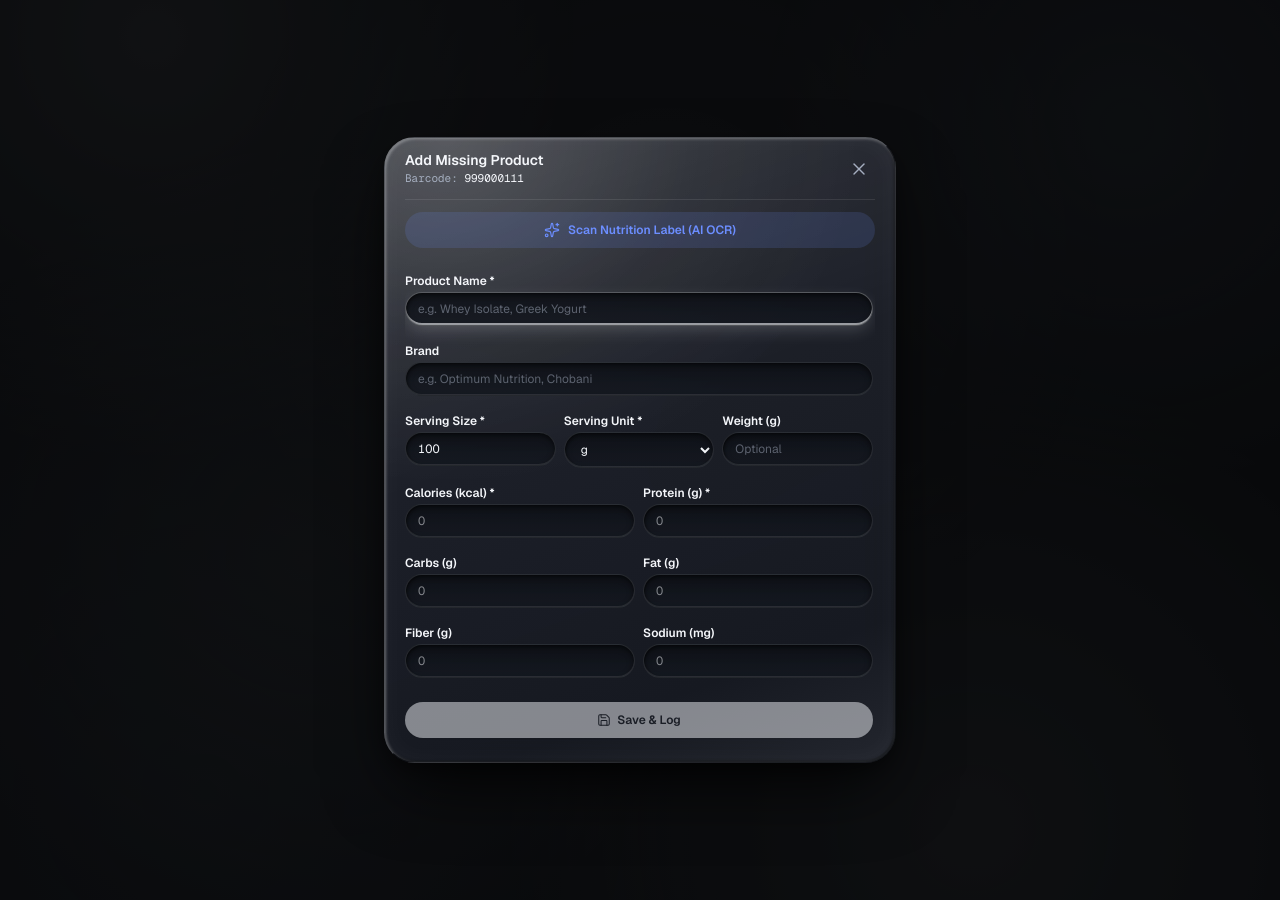
Task 8: Barcode Scanner & Missing-Barcode Creator › AddBarcodeProductModal › rejects negative or non-positive serving size and prevents saving
In the field labelled "Product Name *": (639, 309) 405,292 -> 873,326, type "Bad Size Food"
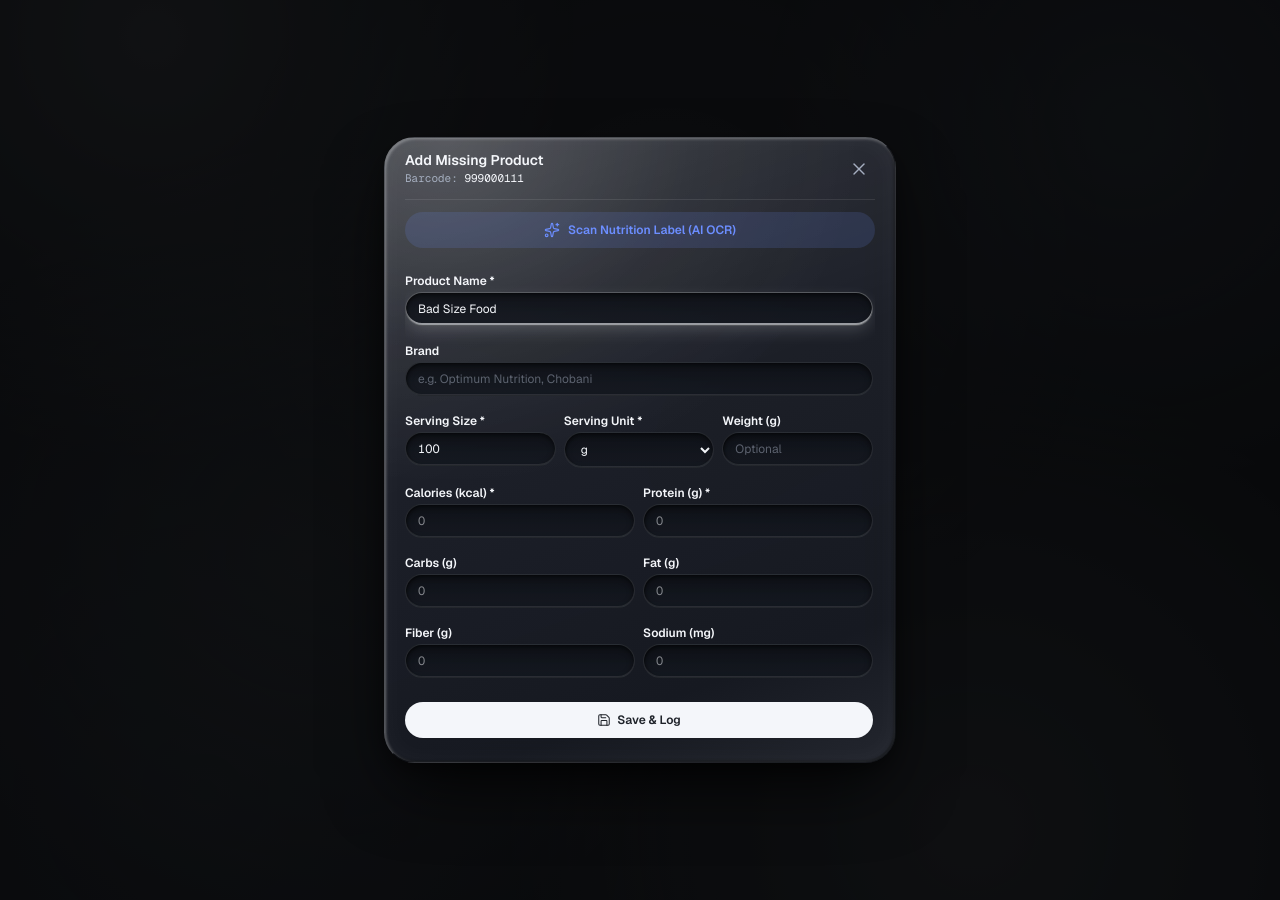
Replace the text in the number field labelled "Serving Size *" with "-10": (480, 449) 405,432 -> 556,466
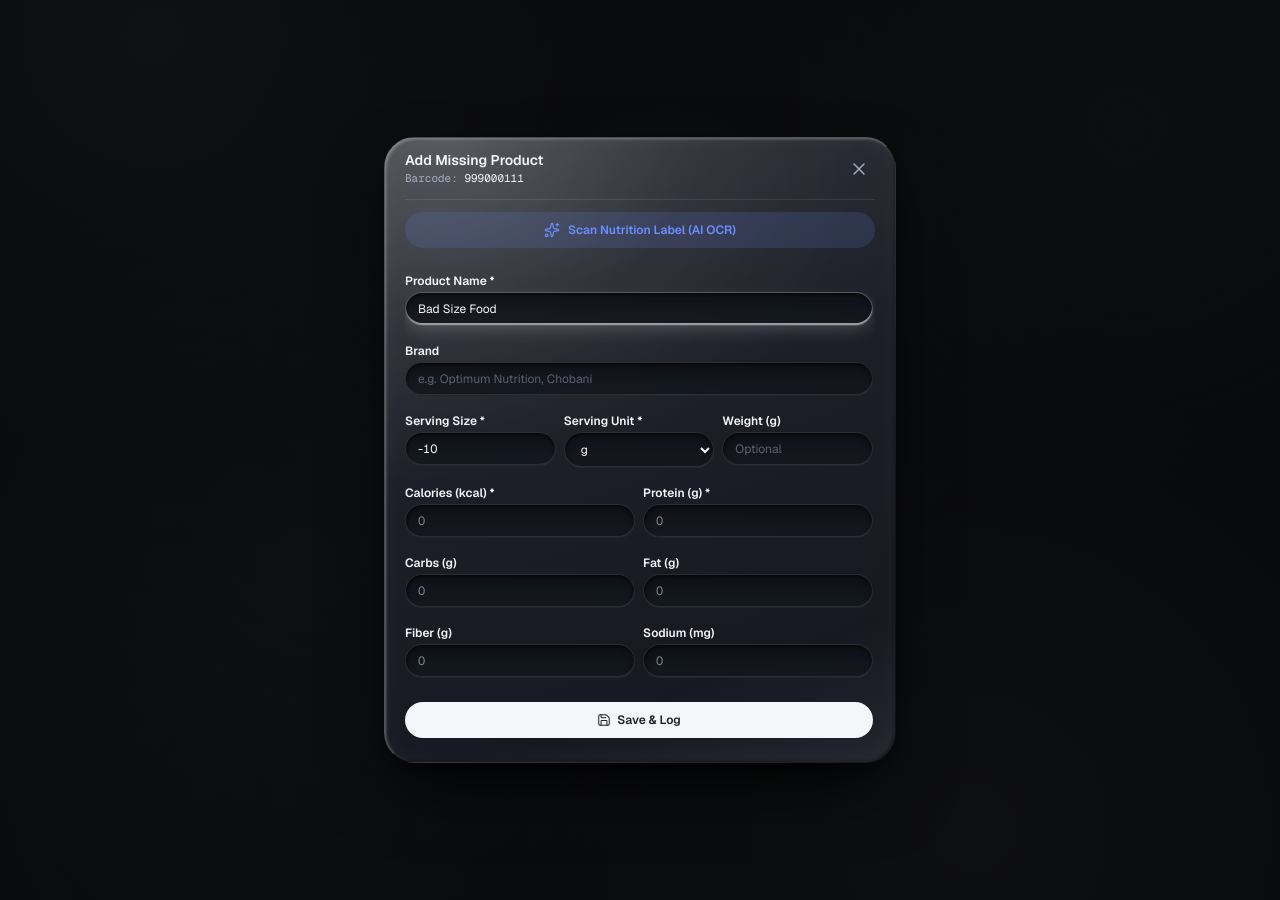
In the number field labelled "Calories (kcal) *": (520, 521) 405,504 -> 635,538, type "100"
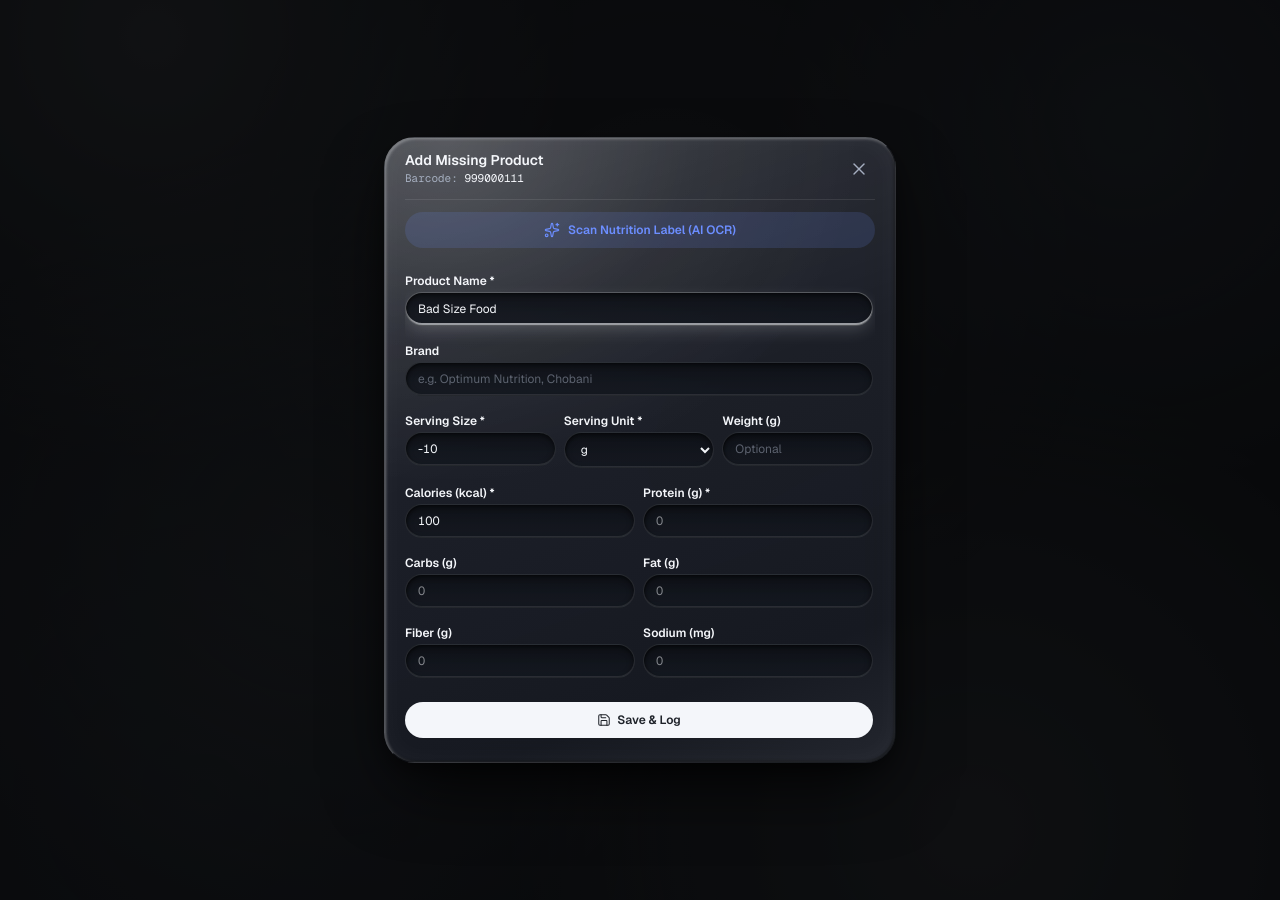
Click the button "Save & Log": (639, 720) 405,702 -> 873,738
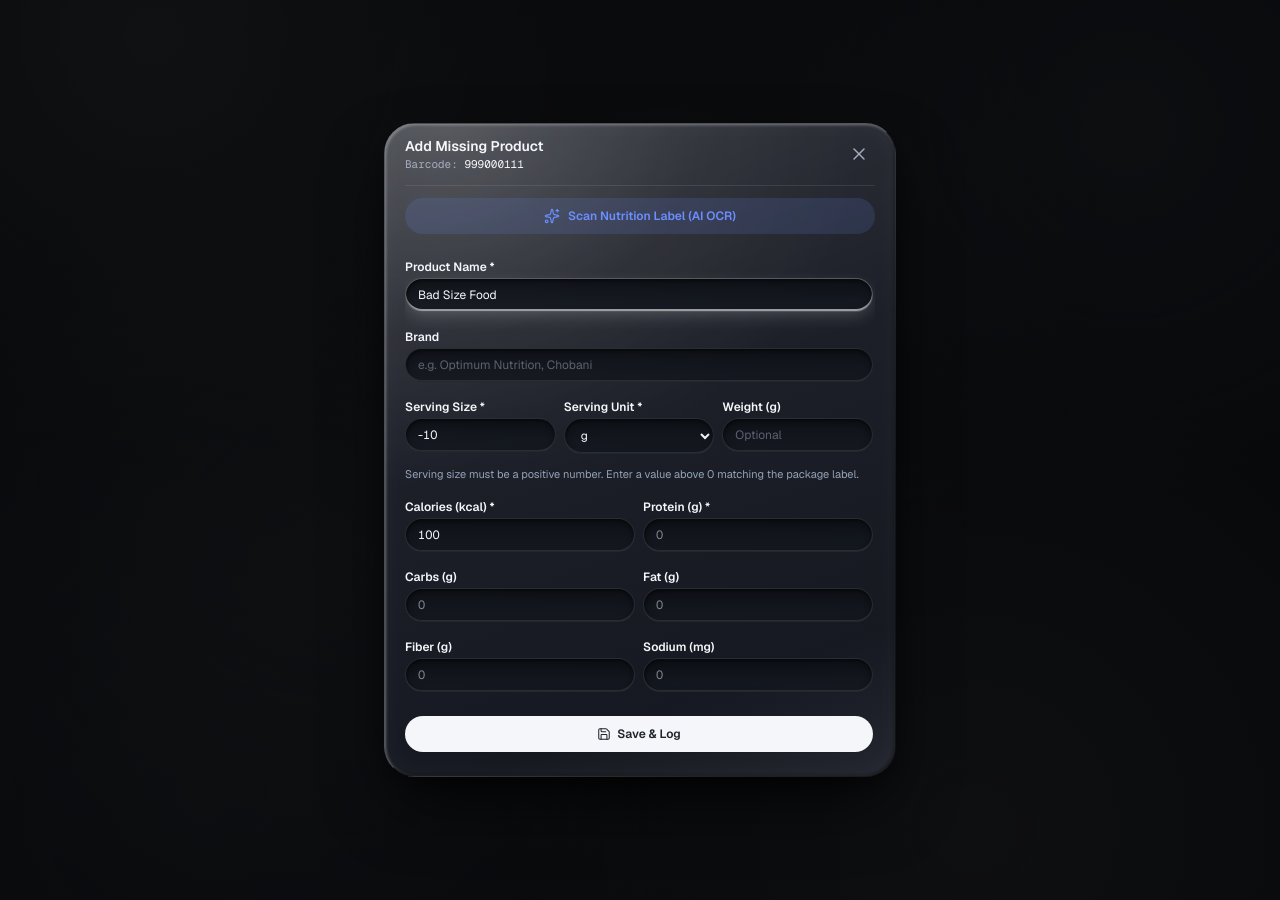
Now the text "Serving size must be a positive number" is shown, box 405,466 -> 859,480
